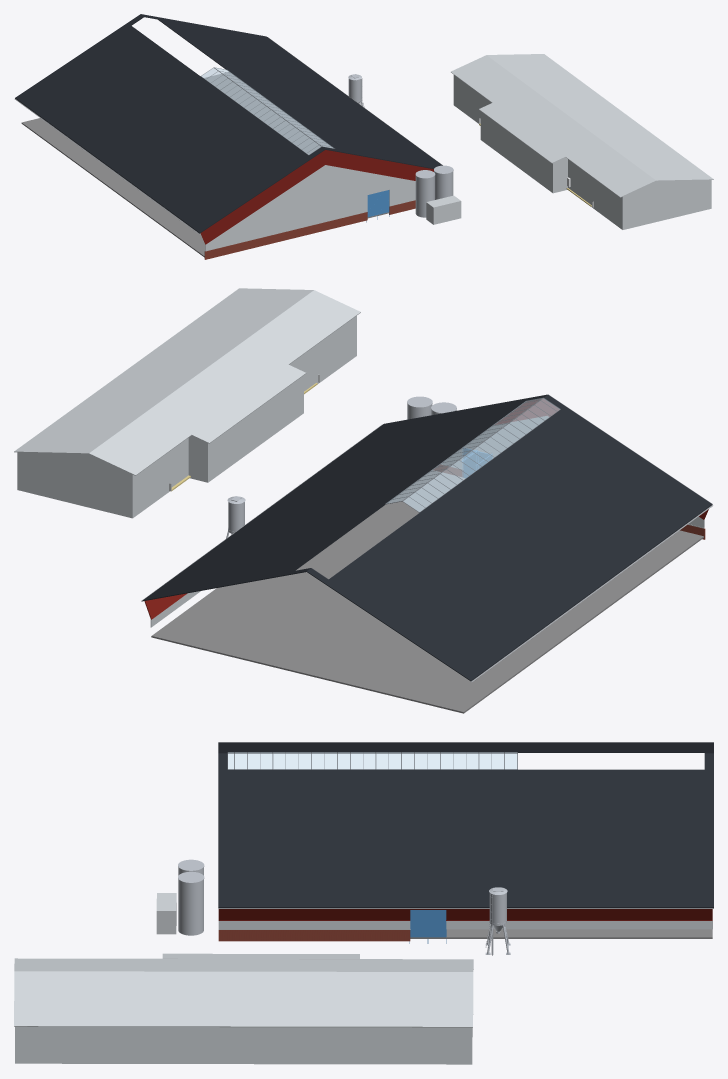
Rendered from evabarn.glb.
3 views of the same model, one above another, from view 1: azimuth 30°, elevation 25°; view 2: azimuth 150°, elevation 25°; view 3: azimuth 270°, elevation 25° (orthographic). The views are drawn at different scales.
Visible parts, largest first — view 1: Basic Roof NLRS_20_RO_dakplaten 95_gen_CGA 2 [5735451], loods 1 loods 1 [5675207], Basic Wall sandwichpaneel MR hor 80mm [5737038], Floor NLRS_23_FL_beton ihwg 200_gen_CGA [5737225], Basic Wall houten geveldelen 120mm 22graden [5737056], Basic Wall houten geveldelen 120mm -22graden [5737039], Basic Wall NLRS_22_WA_mw 100_gen_CGA [5815581], SILO'S SILO'S [5762134], unit 3 unit 1 [5684672], Gutter NLRS_47_ROG_goot rond 98x204_gen_CGA [5942092], CPAC Silo Tank 75.-Logo SCG Silo Tank 75.-Logo SCG [5761514]; view 2: Basic Roof NLRS_20_RO_dakplaten 95_gen_CGA 2 [5735451], loods 1 loods 1 [5675207], Floor NLRS_23_FL_beton ihwg 200_gen_CGA [5737225], Basic Wall sandwichpaneel MR hor 80mm [5737038], Gutter NLRS_47_ROG_goot rond 98x204_gen_CGA [5942092], SILO'S SILO'S [5762134]; view 3: Basic Roof NLRS_20_RO_dakplaten 95_gen_CGA 2 [5735451], loods 1 loods 1 [5675207], Basic Wall houten geveldelen 120mm [5735463], Basic Wall sandwichpaneel MR hor 80mm [5735460], Floor NLRS_23_FL_beton ihwg 200_gen_CGA [5737225], Basic Wall NLRS_22_WA_mw 100_gen_CGA [5815184], SILO'S SILO'S [5762134], CPAC Silo Tank 75.-Logo SCG Silo Tank 75.-Logo SCG [5761514], unit 3 unit 1 [5684672], DYNACO_IndustrialDoor_I14F_HL High lift [5896436], DYNACO_IndustrialDoor_I14F_HL High lift [5896873].
Part boxes in pixels (left/top/right/bottom): Basic Roof NLRS_20_RO_dakplaten 95_gen_CGA 2 [5735451]: left=15, top=14, right=442, bottom=233; loods 1 loods 1 [5675207]: left=451, top=54, right=713, bottom=229; Basic Wall sandwichpaneel MR hor 80mm [5737038]: left=205, top=165, right=415, bottom=250; Floor NLRS_23_FL_beton ihwg 200_gen_CGA [5737225]: left=21, top=72, right=389, bottom=257; Basic Wall houten geveldelen 120mm 22graden [5737056]: left=200, top=150, right=325, bottom=244; Basic Wall houten geveldelen 120mm -22graden [5737039]: left=325, top=150, right=433, bottom=180; Basic Wall NLRS_22_WA_mw 100_gen_CGA [5815581]: left=204, top=212, right=367, bottom=259; SILO'S SILO'S [5762134]: left=415, top=165, right=453, bottom=217; unit 3 unit 1 [5684672]: left=426, top=195, right=461, bottom=224; Gutter NLRS_47_ROG_goot rond 98x204_gen_CGA [5942092]: left=14, top=37, right=442, bottom=234; CPAC Silo Tank 75.-Logo SCG Silo Tank 75.-Logo SCG [5761514]: left=348, top=74, right=364, bottom=107; Basic Roof NLRS_20_RO_dakplaten 95_gen_CGA 2 [5735451]: left=142, top=394, right=712, bottom=681; loods 1 loods 1 [5675207]: left=14, top=288, right=360, bottom=518; Floor NLRS_23_FL_beton ihwg 200_gen_CGA [5737225]: left=151, top=470, right=703, bottom=713; Basic Wall sandwichpaneel MR hor 80mm [5737038]: left=442, top=416, right=704, bottom=527; Gutter NLRS_47_ROG_goot rond 98x204_gen_CGA [5942092]: left=141, top=424, right=713, bottom=682; SILO'S SILO'S [5762134]: left=407, top=396, right=456, bottom=419; Basic Roof NLRS_20_RO_dakplaten 95_gen_CGA 2 [5735451]: left=218, top=742, right=713, bottom=907; loods 1 loods 1 [5675207]: left=14, top=953, right=473, bottom=1064; Basic Wall houten geveldelen 120mm [5735463]: left=219, top=909, right=712, bottom=920; Basic Wall sandwichpaneel MR hor 80mm [5735460]: left=218, top=921, right=712, bottom=929; Floor NLRS_23_FL_beton ihwg 200_gen_CGA [5737225]: left=410, top=929, right=712, bottom=938; Basic Wall NLRS_22_WA_mw 100_gen_CGA [5815184]: left=219, top=930, right=410, bottom=941; SILO'S SILO'S [5762134]: left=178, top=859, right=204, bottom=935; CPAC Silo Tank 75.-Logo SCG Silo Tank 75.-Logo SCG [5761514]: left=485, top=887, right=510, bottom=955; unit 3 unit 1 [5684672]: left=156, top=893, right=176, bottom=934; DYNACO_IndustrialDoor_I14F_HL High lift [5896436]: left=427, top=910, right=446, bottom=943; DYNACO_IndustrialDoor_I14F_HL High lift [5896873]: left=409, top=910, right=428, bottom=943.
Bounding box in the file's own units: 79.54 × 14.55 × 81.58.
Materials: 23 (8 with a texture image).
